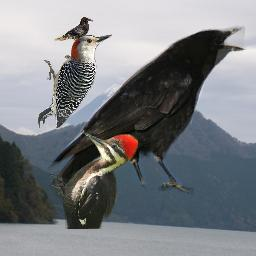Crow: (46, 24, 249, 198), (54, 17, 93, 46)
Woodpecker: (49, 132, 138, 229), (38, 34, 112, 128)
